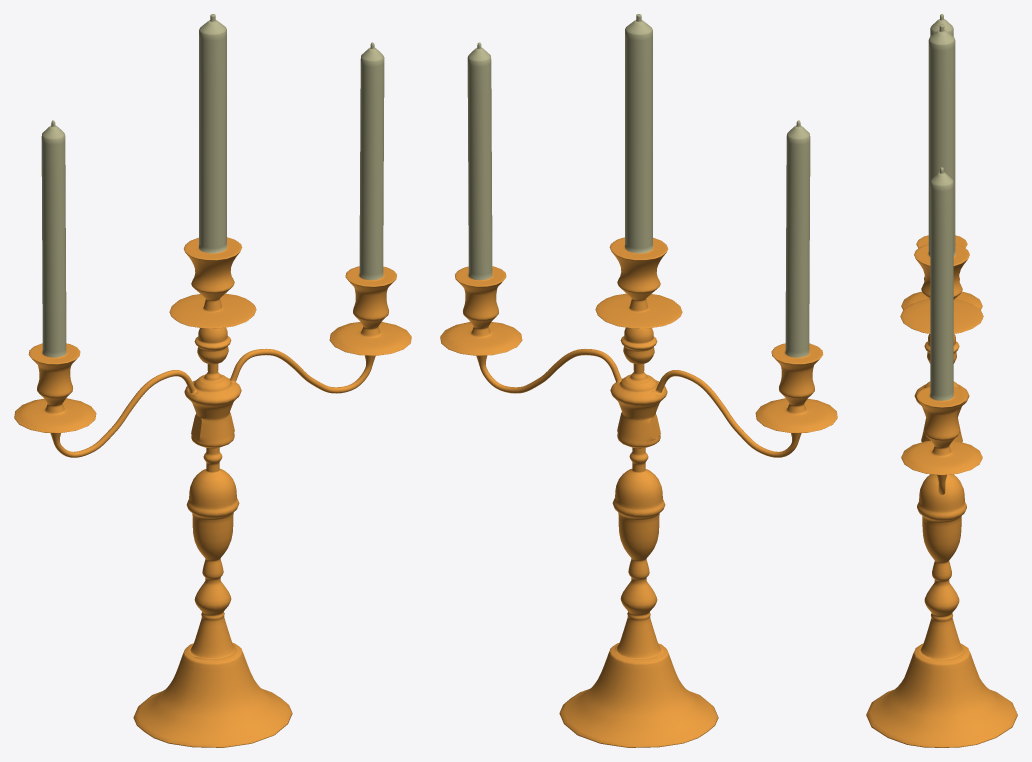
The model's file is candle.fbx.
3 views of the same model, side by side, from view 1: azimuth 30°, elevation 25°; view 2: azimuth 150°, elevation 25°; view 3: azimuth 270°, elevation 25° (orthographic).
Parts seen in each view (by area): view 1: Cylinder; view 2: Cylinder; view 3: Cylinder.
Part boxes in pixels (left/top/right/bottom): Cylinder: left=14, top=14, right=411, bottom=747; Cylinder: left=440, top=14, right=837, bottom=747; Cylinder: left=866, top=14, right=1017, bottom=747.
Size of the model in its own units: 363 by 627 by 125.
